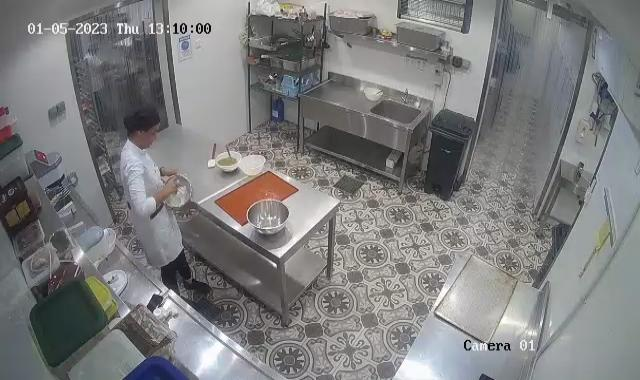no_hairnet: (121, 105, 162, 136)
